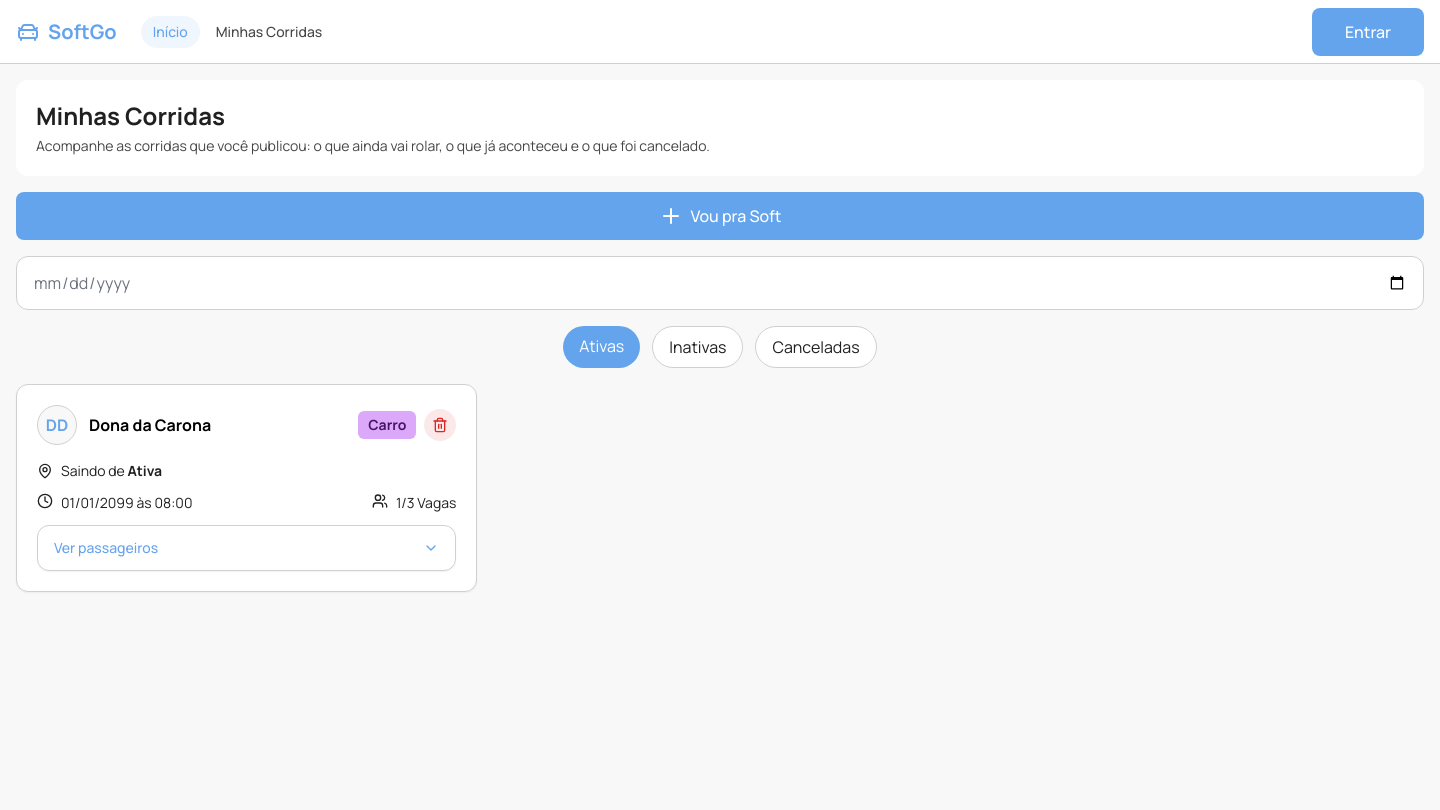
Test: MyRides › shows the union of every checked category (MYRIDES-10)
expect the text "Ativa" is shown: met, box x1=128 y1=461 x2=162 y2=480
Click the checkbox labelled "Inativas" at [698, 347], box x1=652 y1=326 x2=744 y2=368
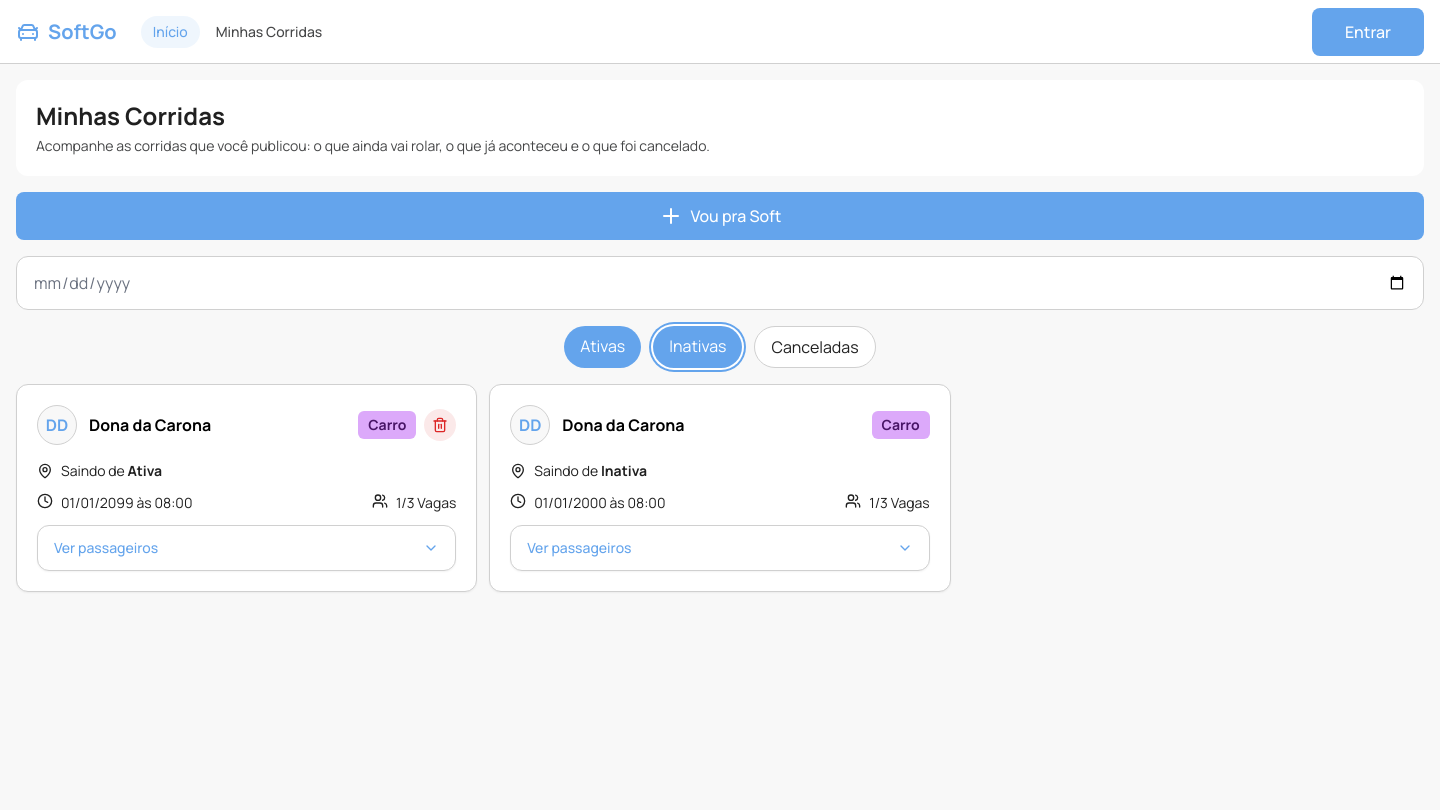
Click the checkbox labelled "Canceladas" at [815, 347], box x1=754 y1=326 x2=876 y2=368
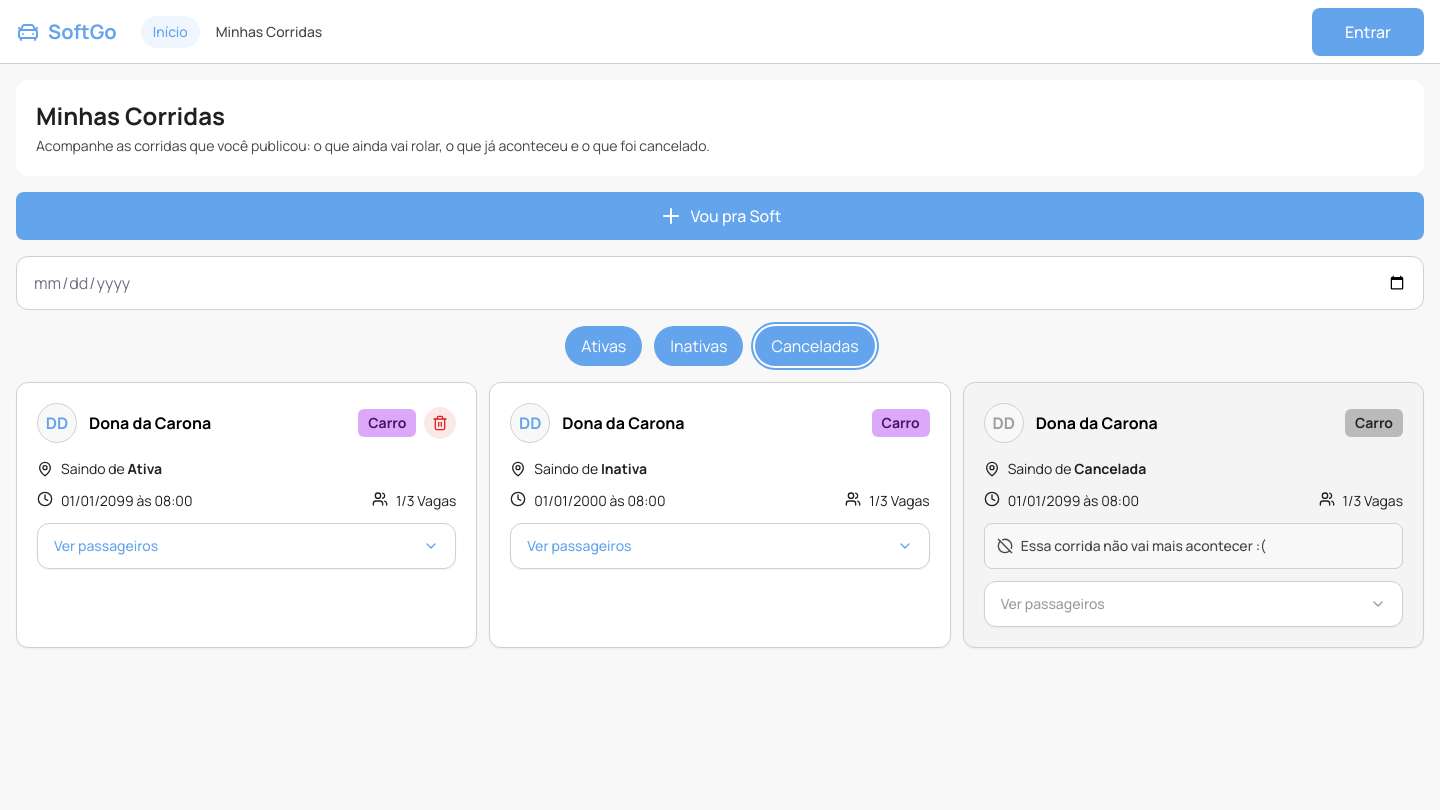
expect the text "Ativa" is shown: met, box x1=128 y1=459 x2=162 y2=478
expect the text "Inativa" is shown: met, box x1=601 y1=459 x2=647 y2=478
expect the text "Cancelada" is shown: met, box x1=1074 y1=459 x2=1146 y2=478
